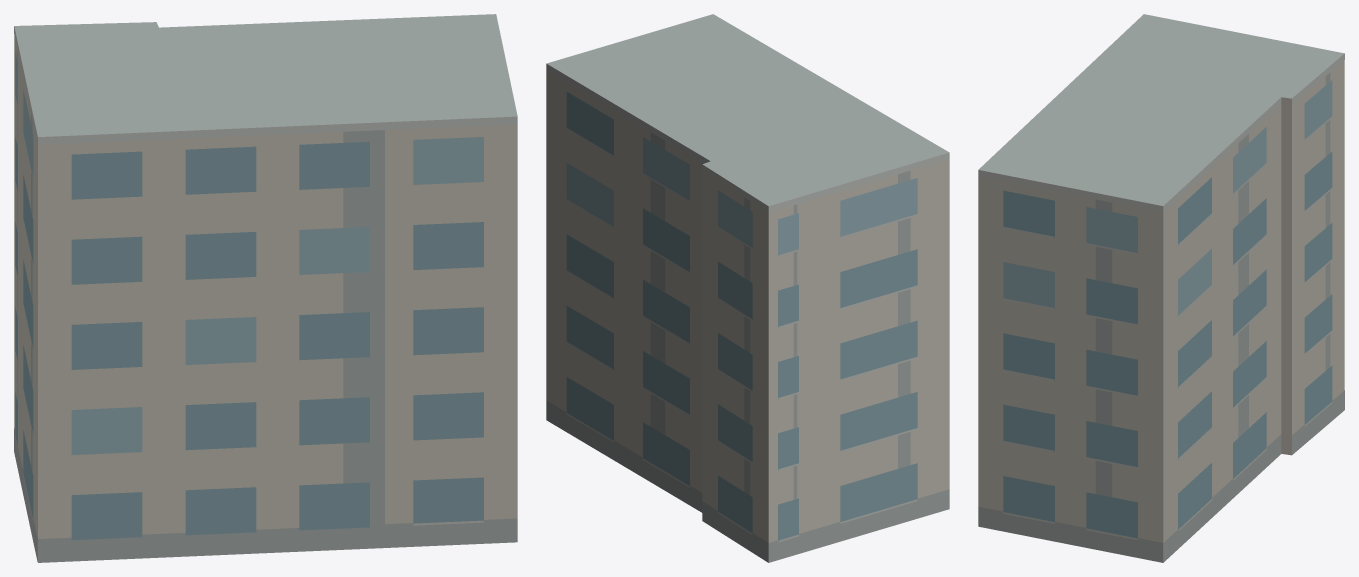
File: survey-upis-32982722.glb
3 renders of one model, left to right at view 1: azimuth 30°, elevation 25°; view 2: azimuth 150°, elevation 25°; view 3: azimuth 270°, elevation 25°, orthographic. The views are drawn at different scales.
Visible parts, largest first — view 1: survey-upis-32982722.tmp; view 2: survey-upis-32982722.tmp; view 3: survey-upis-32982722.tmp.
Part boxes in pixels (x1,y1,x2,y2): survey-upis-32982722.tmp: (14,14,517,562); survey-upis-32982722.tmp: (546,14,949,562); survey-upis-32982722.tmp: (978,14,1344,562).
Size of the model in its own units: 15.49 by 13.4 by 12.49.
